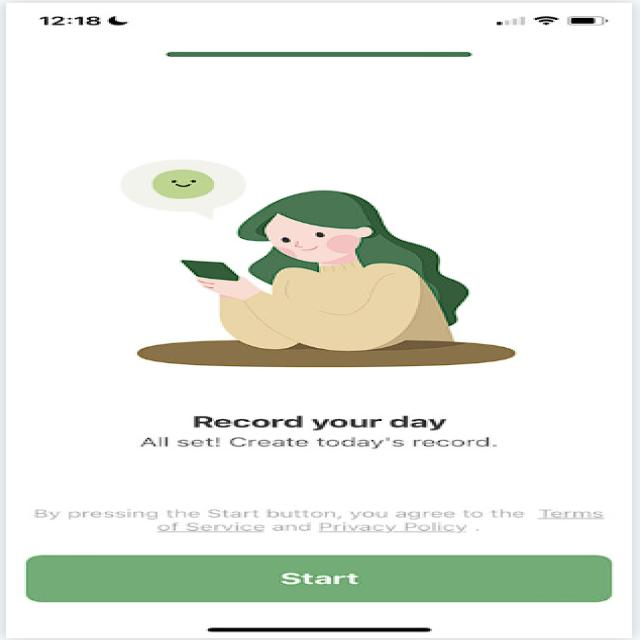button: (15, 540, 624, 618)
image: (21, 99, 612, 395)
text: (18, 402, 617, 460), (15, 492, 633, 538)
